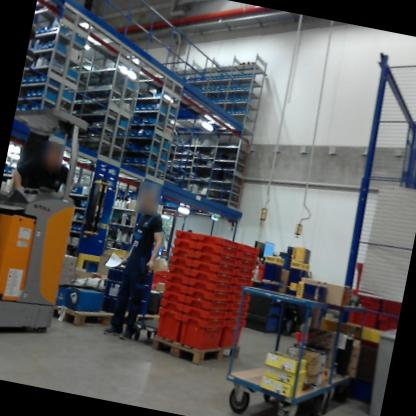forklift: (0, 91, 101, 355)
pallet: (152, 326, 248, 375), (51, 291, 131, 337), (127, 307, 163, 329)
small_load_carrier: (173, 314, 219, 358), (343, 286, 383, 331), (186, 257, 233, 288), (149, 305, 181, 348), (348, 258, 381, 297), (180, 294, 225, 318), (193, 235, 239, 258), (216, 317, 247, 349), (180, 303, 225, 323), (184, 285, 226, 304), (191, 249, 234, 267), (370, 310, 399, 336), (186, 278, 230, 294), (198, 230, 239, 247), (220, 300, 250, 318), (171, 225, 198, 243), (220, 309, 248, 325), (225, 283, 252, 299), (230, 266, 256, 282), (232, 242, 260, 256), (157, 299, 182, 314), (168, 255, 193, 270), (159, 290, 182, 304), (163, 279, 184, 294), (173, 238, 196, 251), (224, 294, 251, 305), (172, 247, 194, 260), (232, 258, 258, 269), (229, 277, 254, 288), (234, 252, 258, 263), (165, 272, 187, 283), (167, 265, 188, 276)
